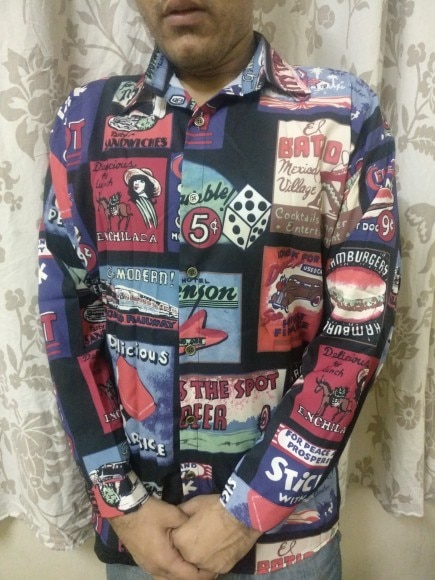shirts: (41, 41, 401, 561)
